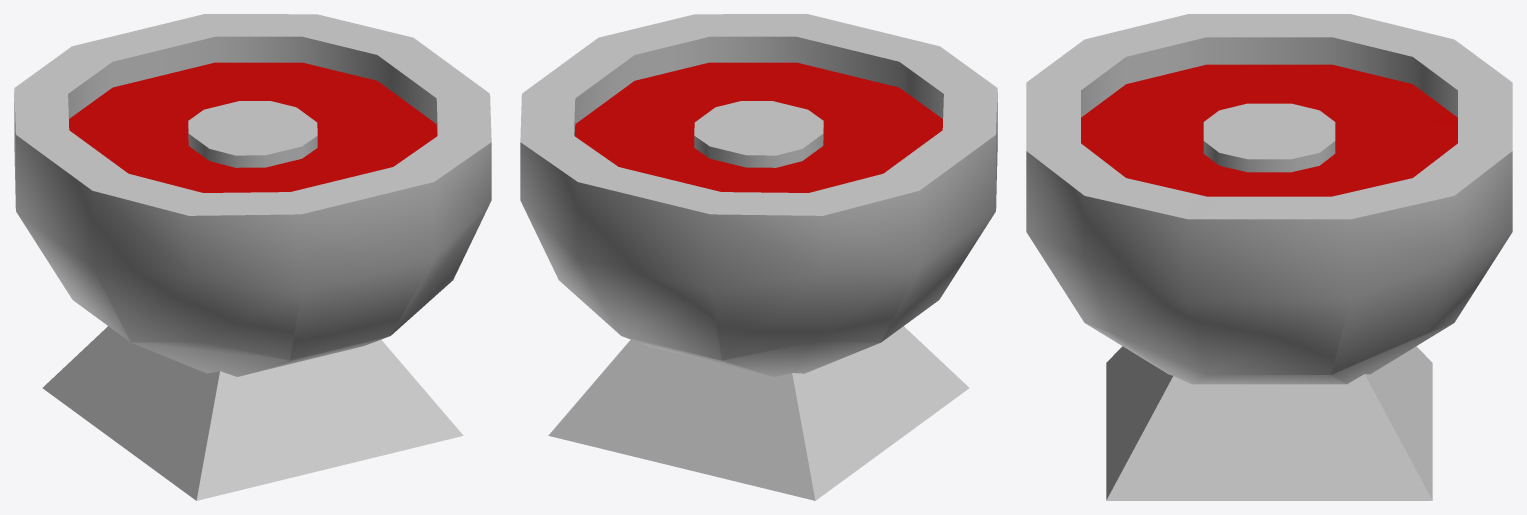
The model's file is flameholder.fbx.
3 renders of one model, left to right at view 1: azimuth 30°, elevation 25°; view 2: azimuth 150°, elevation 25°; view 3: azimuth 270°, elevation 25°, orthographic. The views are drawn at different scales.
Visible parts, largest first — view 1: Mesh; view 2: Mesh; view 3: Mesh.
Boxes of the visible parts, x1,y1,x2,y2 form: Mesh: (14, 14, 491, 500); Mesh: (520, 14, 997, 500); Mesh: (1026, 14, 1512, 500).
Bounding box in the file's own units: 100 × 71.54 × 100.
